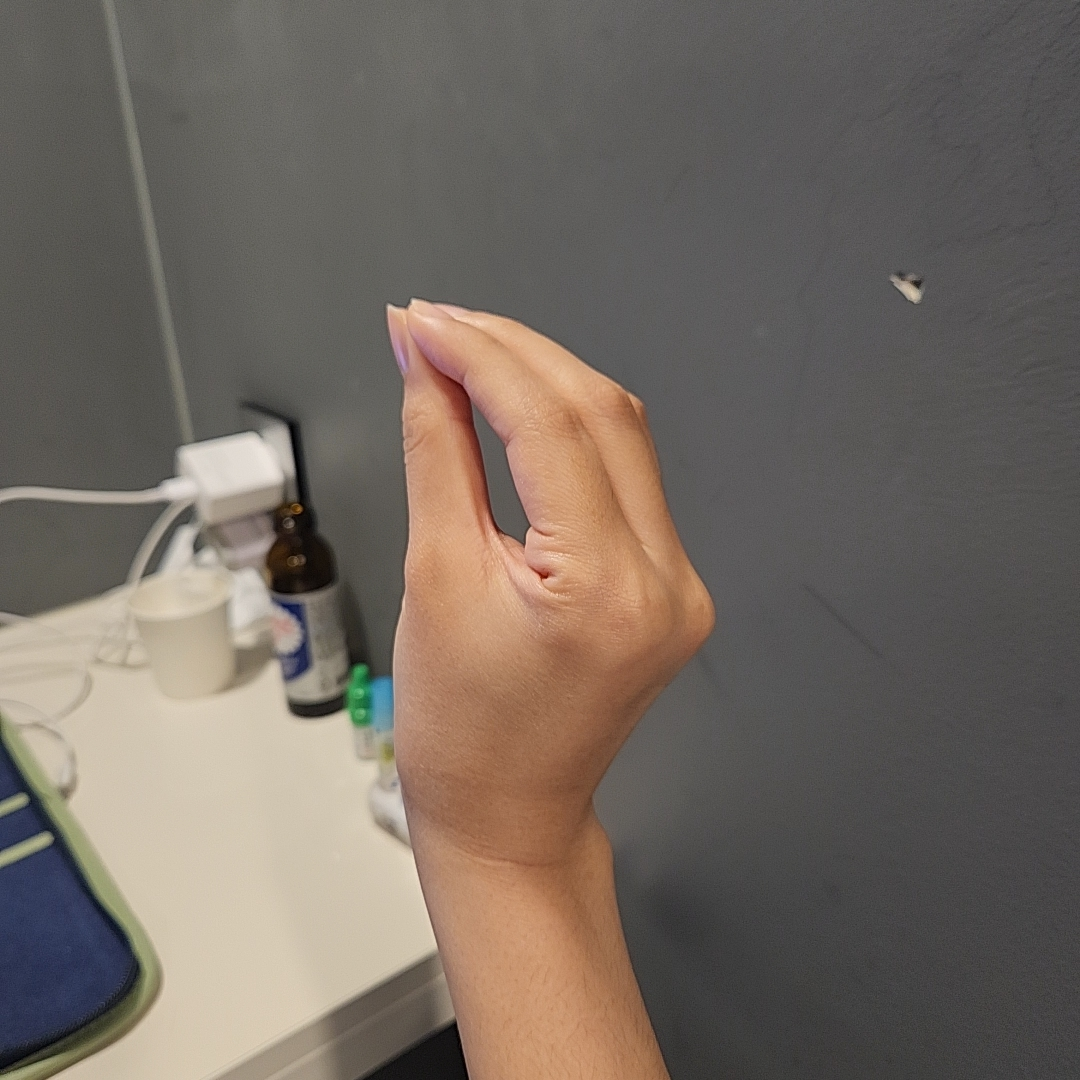happy: (381, 297, 718, 833)
